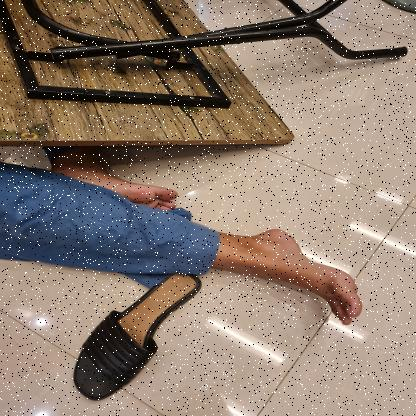leg: (205, 220, 366, 334), (54, 154, 182, 218)
